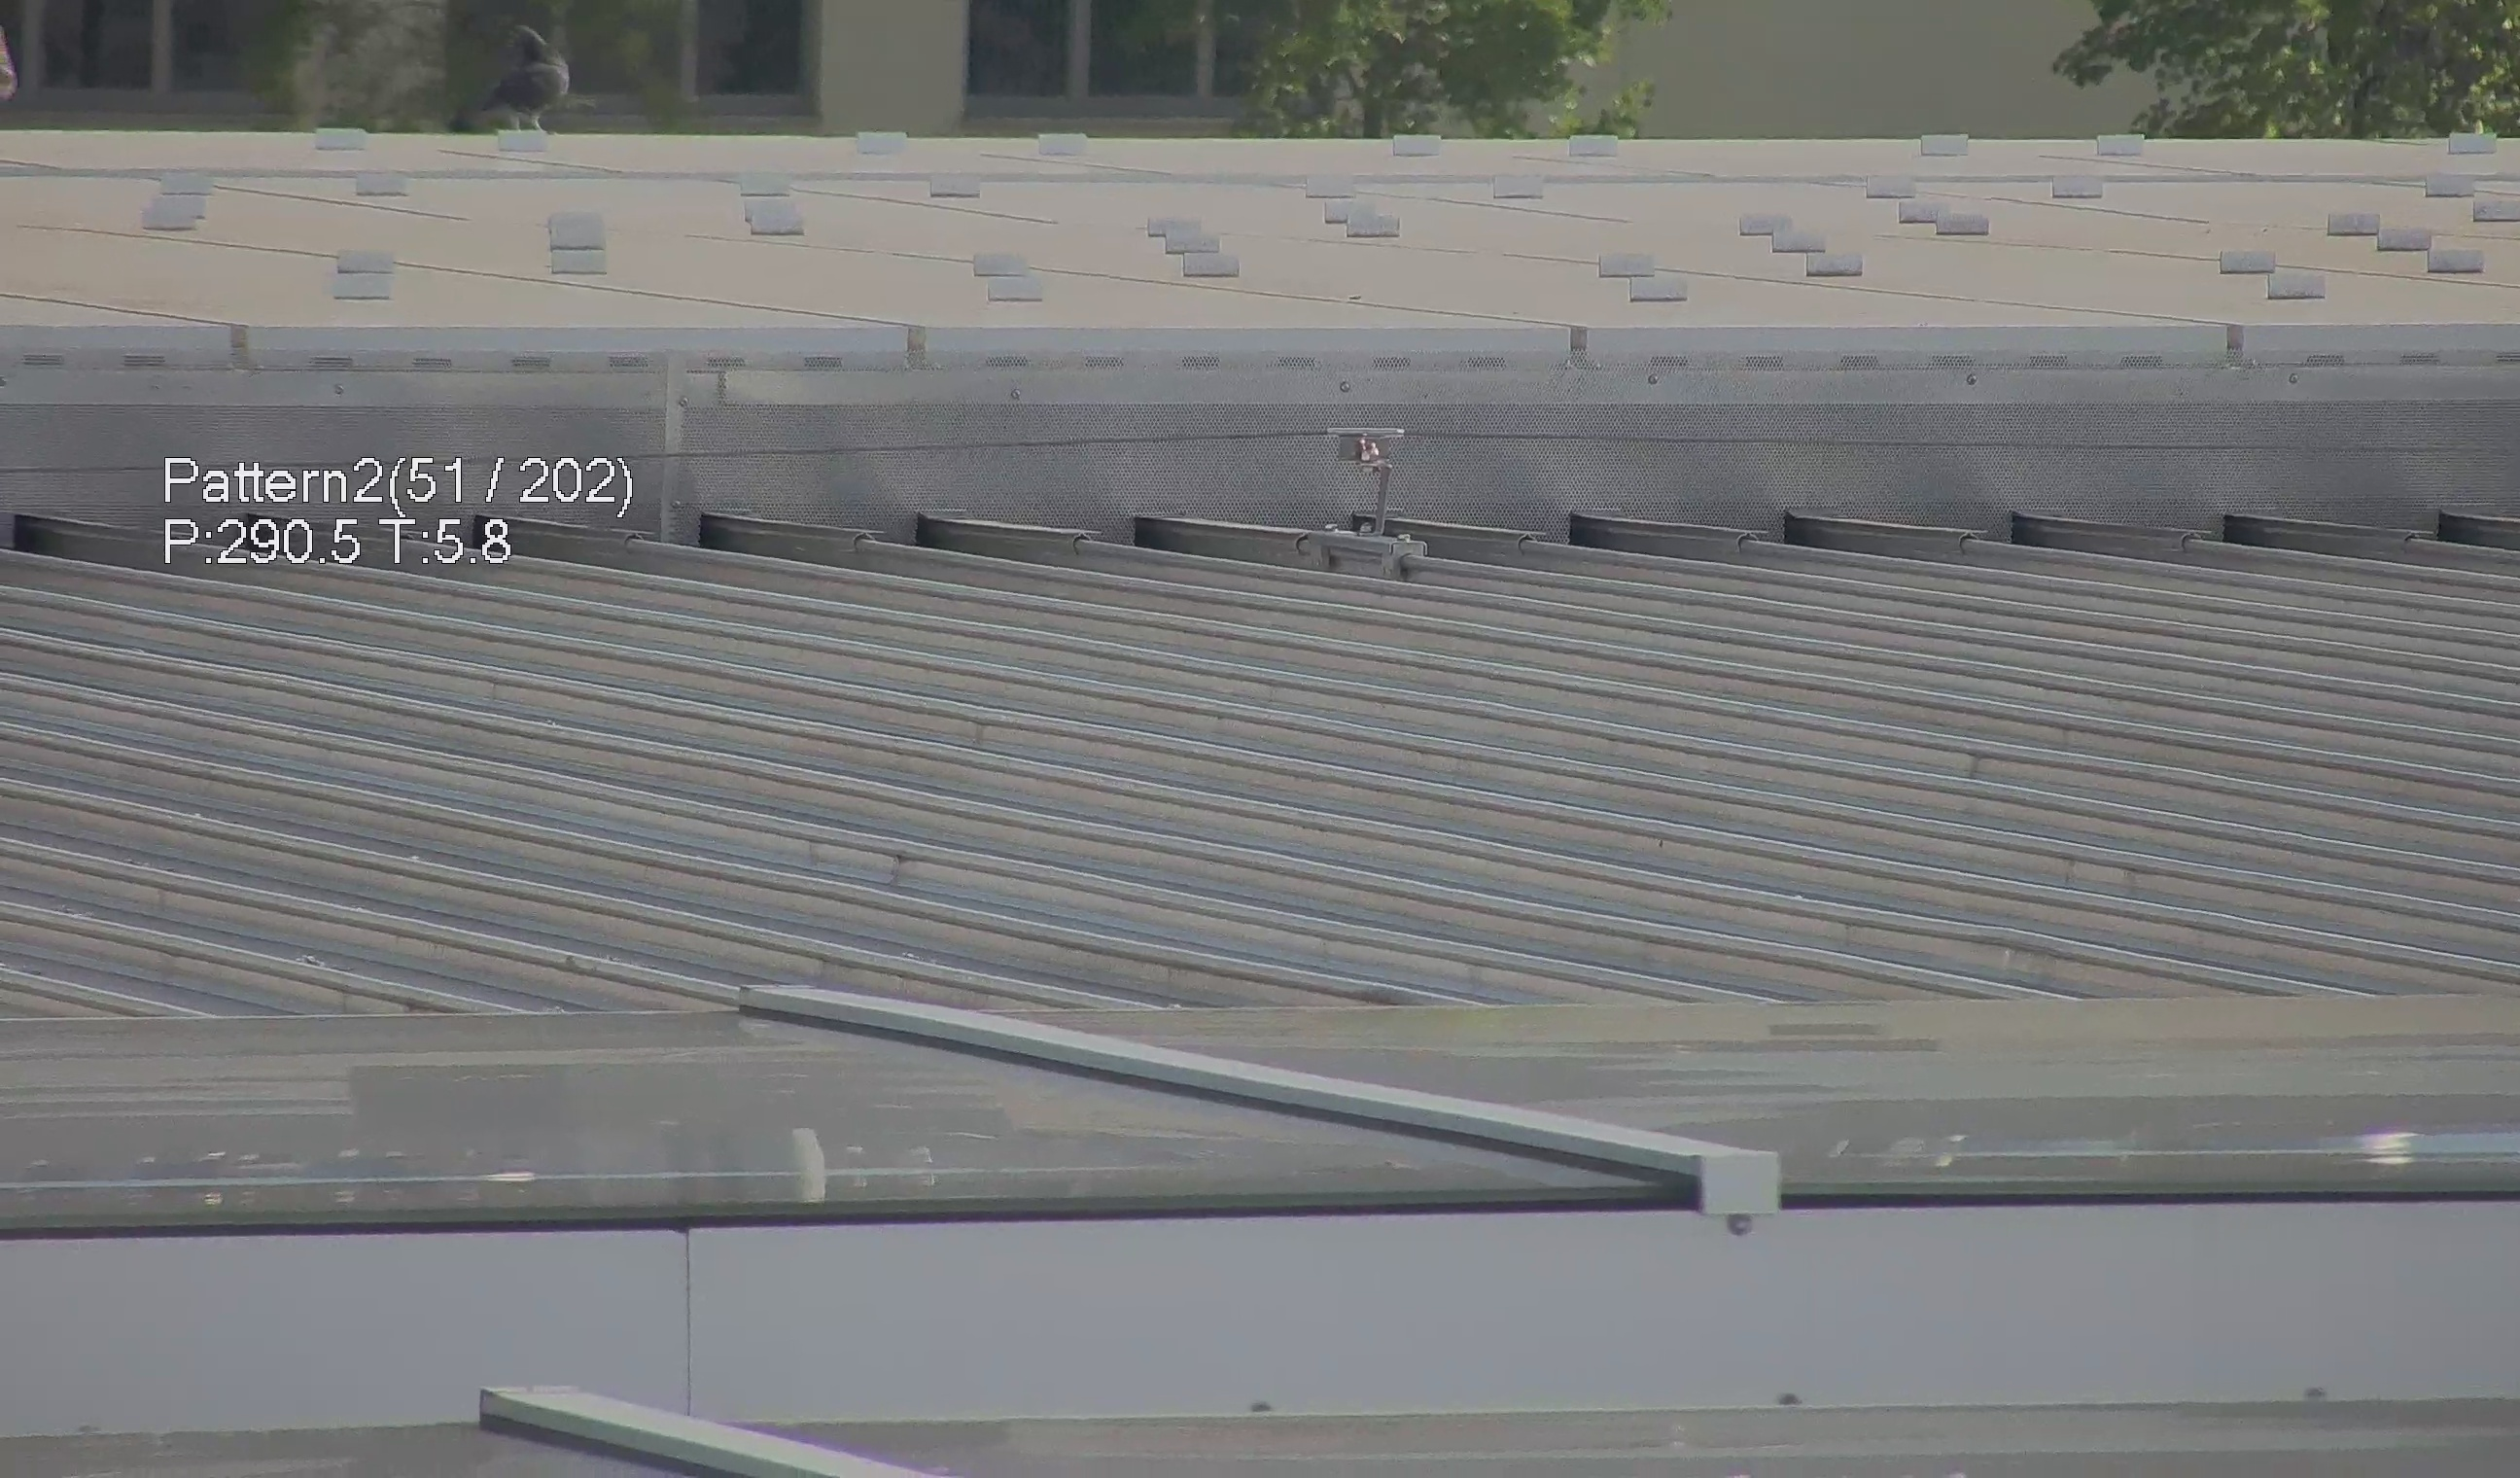Pigeon: (443, 5, 563, 141)
